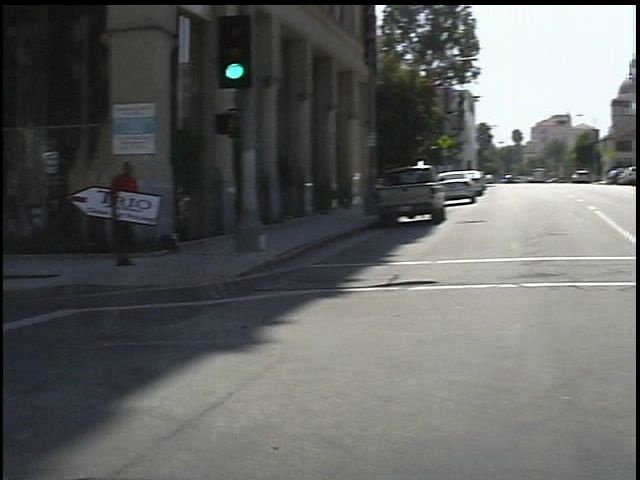person: (97, 157, 143, 276)
